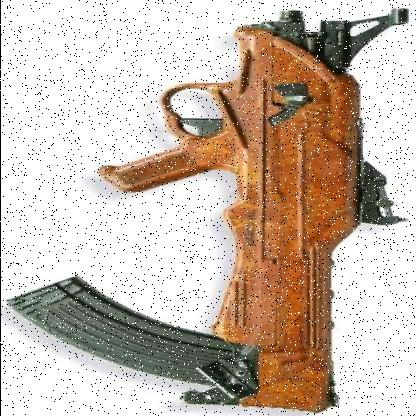rifle: (20, 7, 414, 413)
